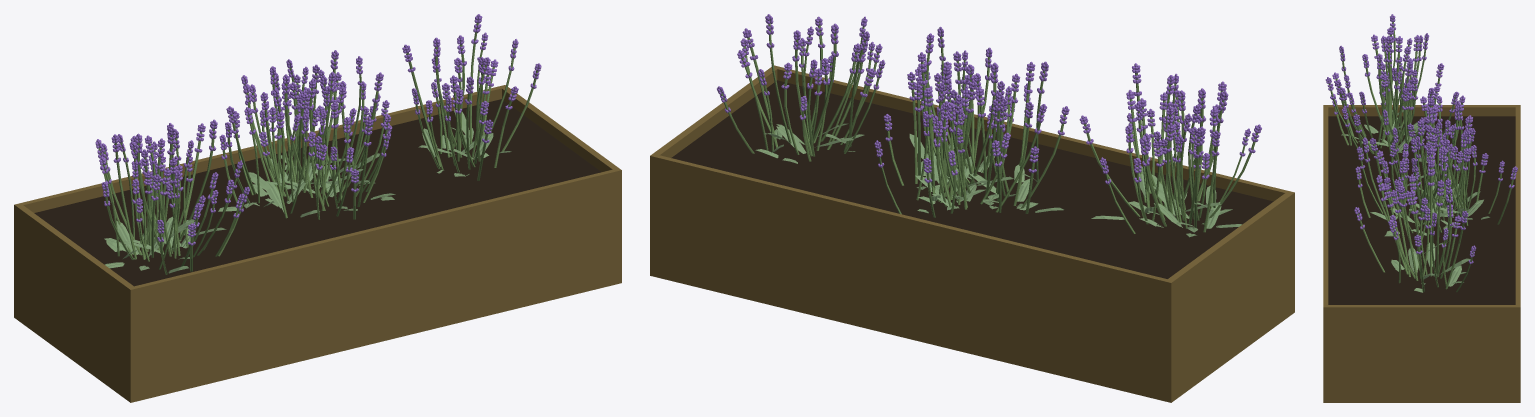
The model's file is Lavender.fbx.
3 views of the same model, side by side, from view 1: azimuth 30°, elevation 25°; view 2: azimuth 150°, elevation 25°; view 3: azimuth 270°, elevation 25° (orthographic). The views are drawn at different scales.
Parts seen in each view (by area): view 1: FlowerBed_thin, Lavender; view 2: FlowerBed_thin, Lavender; view 3: FlowerBed_thin, Lavender.
Boxes of the visible parts, x1=… form: FlowerBed_thin: x1=14, y1=85, x2=621, y2=402; Lavender: x1=95, y1=14, x2=541, y2=274; FlowerBed_thin: x1=650, y1=65, x2=1294, y2=402; Lavender: x1=717, y1=14, x2=1261, y2=237; FlowerBed_thin: x1=1323, y1=105, x2=1520, y2=402; Lavender: x1=1325, y1=14, x2=1517, y2=292.
Size of the model in its own units: 420 by 192 by 173.
